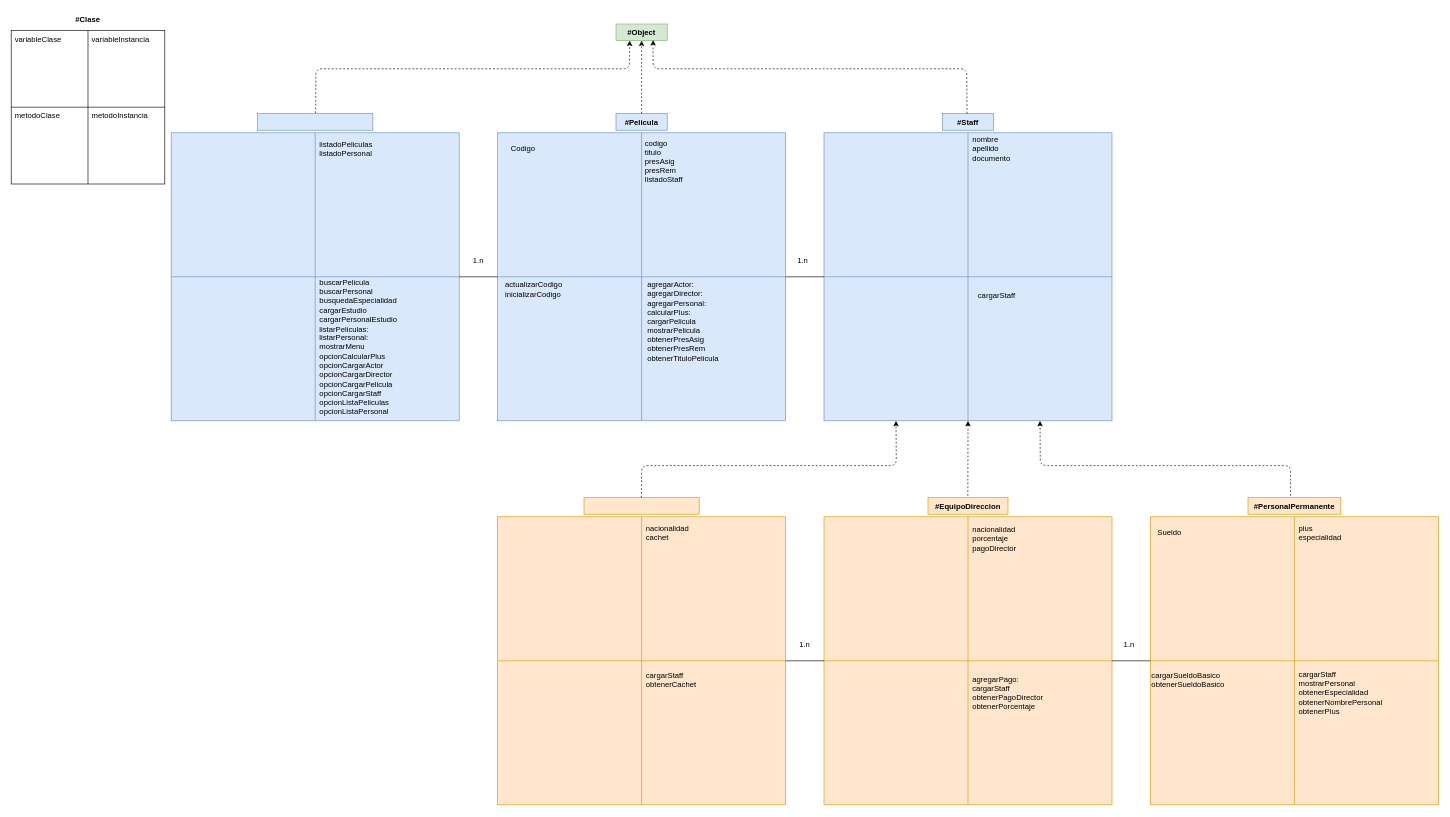
This 1450x817 diagram has some shape labels left out. Here are the shapes that lost their labels. From the top down, the centre of each, then its label:
At pixel 315 121: "#EstudioCinematografico".
At pixel 641 505: "#Actor".
